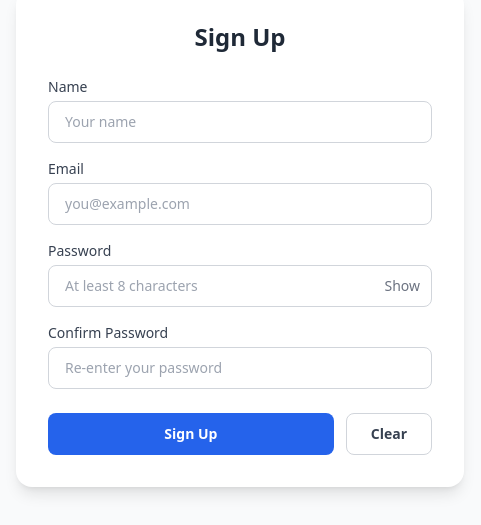
it: SignupForm › shows error for short password
Type "John" into the field labelled "Name" at (240, 122), box [48,101,432,143]
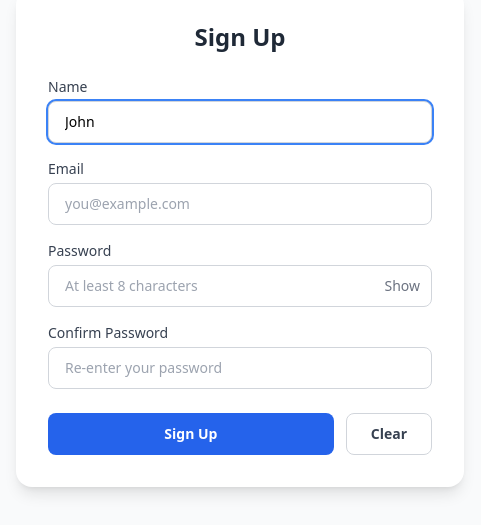
Type "john@example.com" into the field labelled "Email" at (240, 204), box [48,183,432,225]
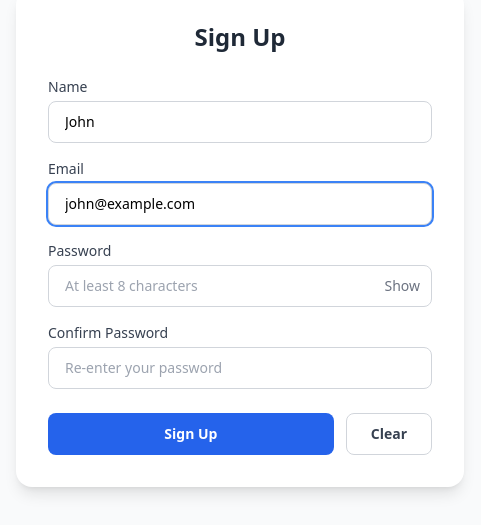
Type "short" into the password field labelled "Password" at (240, 286), box [48,265,432,307]
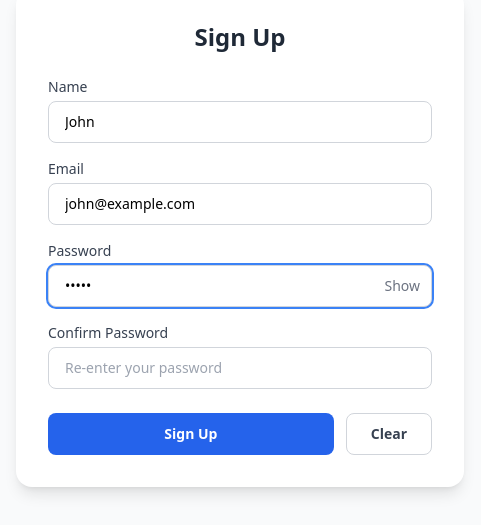
Type "short" into the password field labelled "Confirm Password" at (240, 368), box [48,347,432,389]
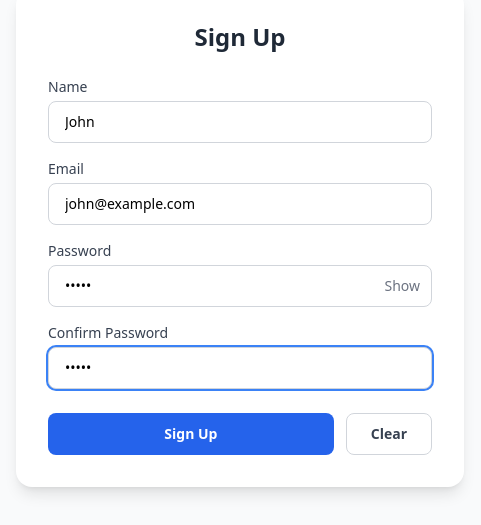
Click the button "Sign Up" at (191, 434), box [48,413,334,455]
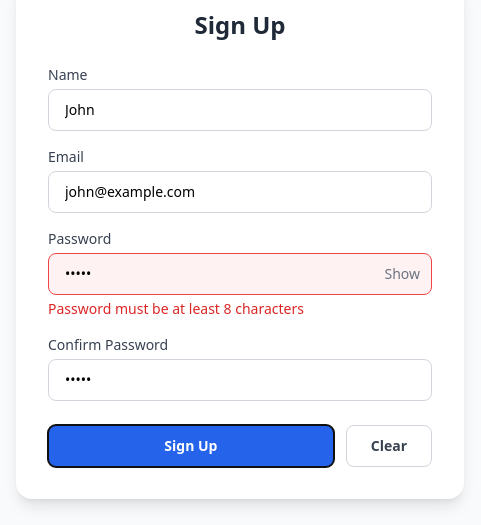
Result: the text "Password must be at least 8 characters" is shown at [48,299,304,318]
